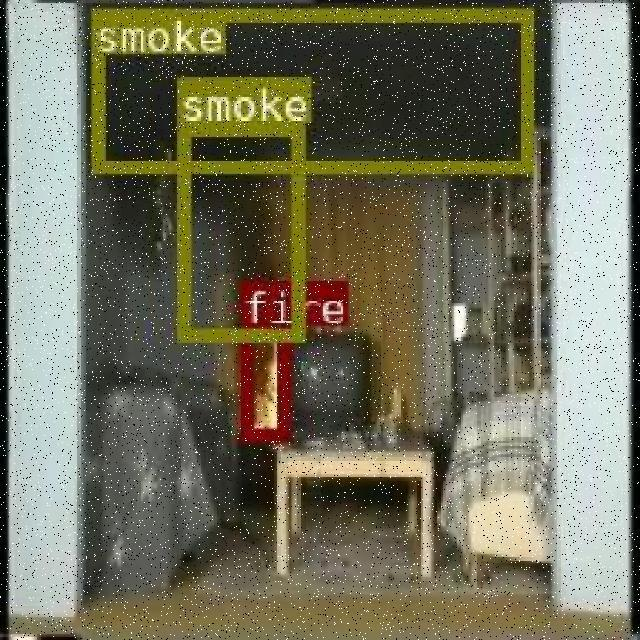Smoke: (90, 38, 532, 139), (206, 121, 270, 339)
